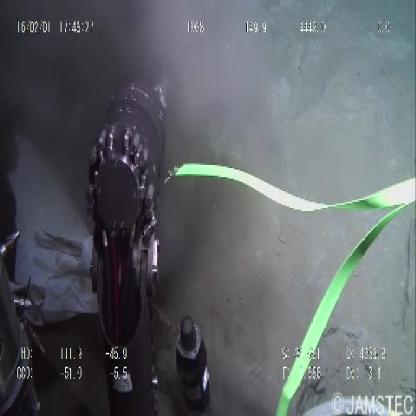Rov: (83, 74, 210, 407)
Rác: (4, 137, 102, 327)
